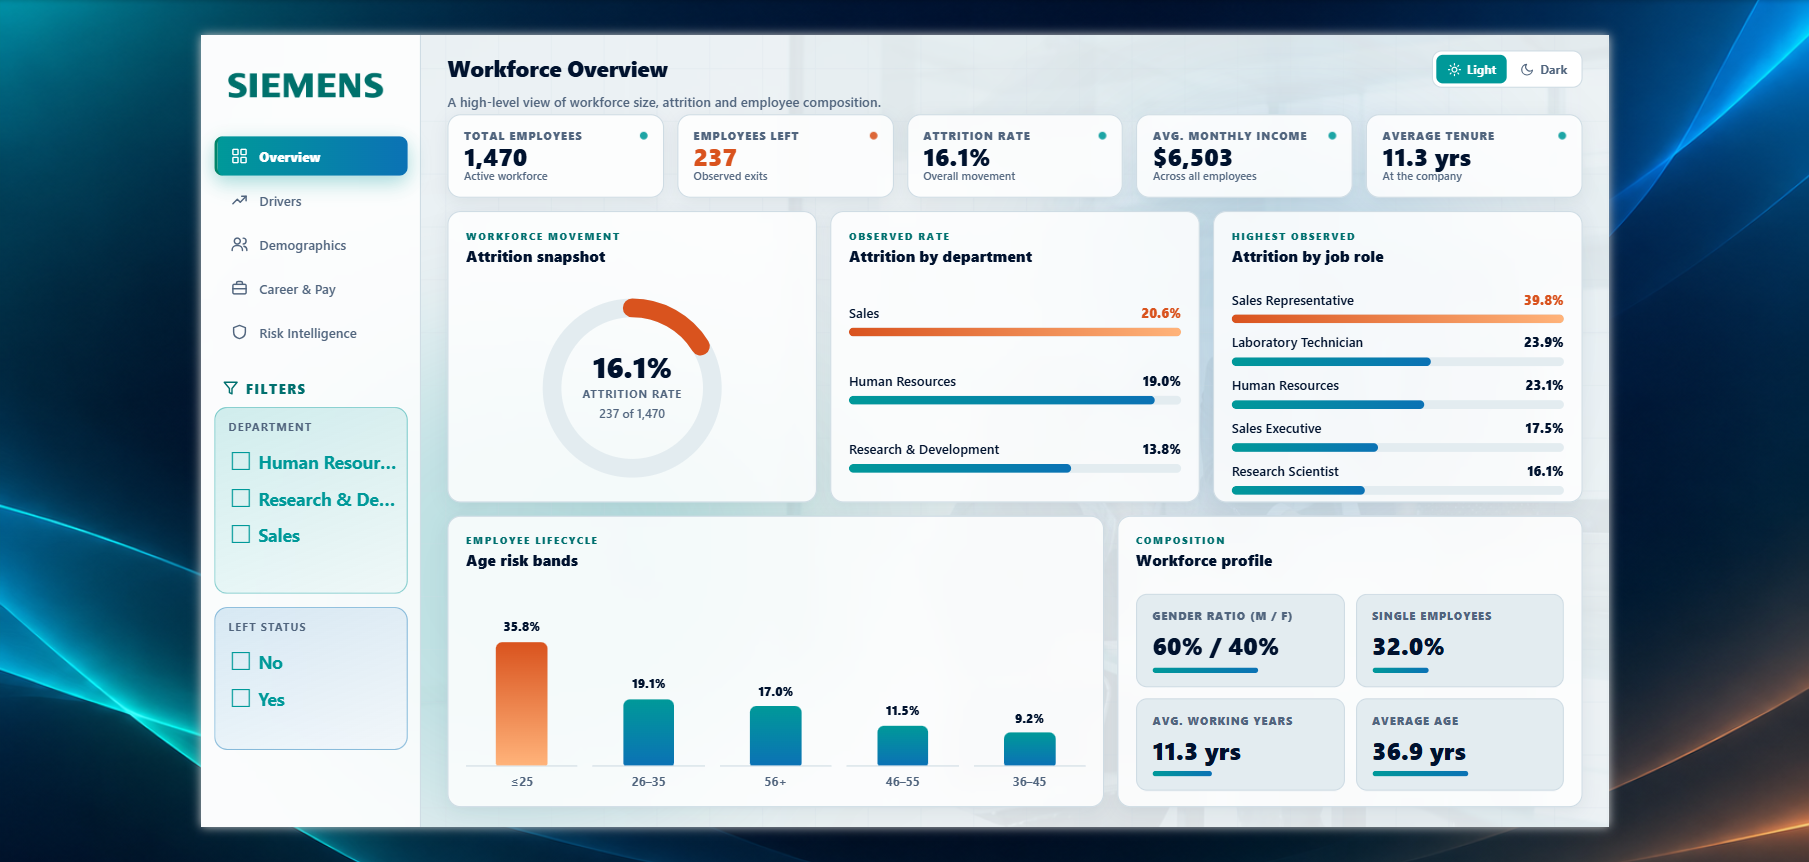

What the dashboard file says about the page in this screenshot:
{"tool":"powerbi","page":{"name":"Overview Page","canvas":[1280,720],"ordinal":1},"visuals":[{"type":"htmlContent443BE3AD55E043BF878BED274D3A6855","fields":{"content":["HTML Visuals.Overview_Page"]},"box":[0,0,1280,720],"z":0},{"type":"slicer","title":"Left Status Slicer","fields":{"Values":["fact_attrition.attrition"]},"box":[20,554,160,84],"z":250},{"type":"slicer","title":"Department Slicer","fields":{"Values":["dim_department.department"]},"box":[20,372,160,124],"z":500},{"type":"actionButton","title":"Risk Intelligence","box":[12,252,176,36],"z":1000},{"type":"actionButton","title":"Career & Pay","box":[12,212,176,36],"z":2000},{"type":"actionButton","title":"Demographics","box":[12,172,176,36],"z":3000},{"type":"actionButton","title":"Drivers","box":[12,132,176,36],"z":4000}]}

Visuals, with their boxes on the page's 1280x720 design canvas (x1, y1, x2, y2). These are canvas units, not pixel positions in the 1809x862 screenshot, which may show the page scaled, cropped or inside an application window:
htmlContent443BE3AD55E043BF878BED274D3A6855 - HTML Visuals.Overview_Page: left=0, top=0, right=1280, bottom=720
"Left Status Slicer" slicer: left=20, top=554, right=180, bottom=638
"Department Slicer" slicer: left=20, top=372, right=180, bottom=496
"Risk Intelligence" actionButton: left=12, top=252, right=188, bottom=288
"Career & Pay" actionButton: left=12, top=212, right=188, bottom=248
"Demographics" actionButton: left=12, top=172, right=188, bottom=208
"Drivers" actionButton: left=12, top=132, right=188, bottom=168
